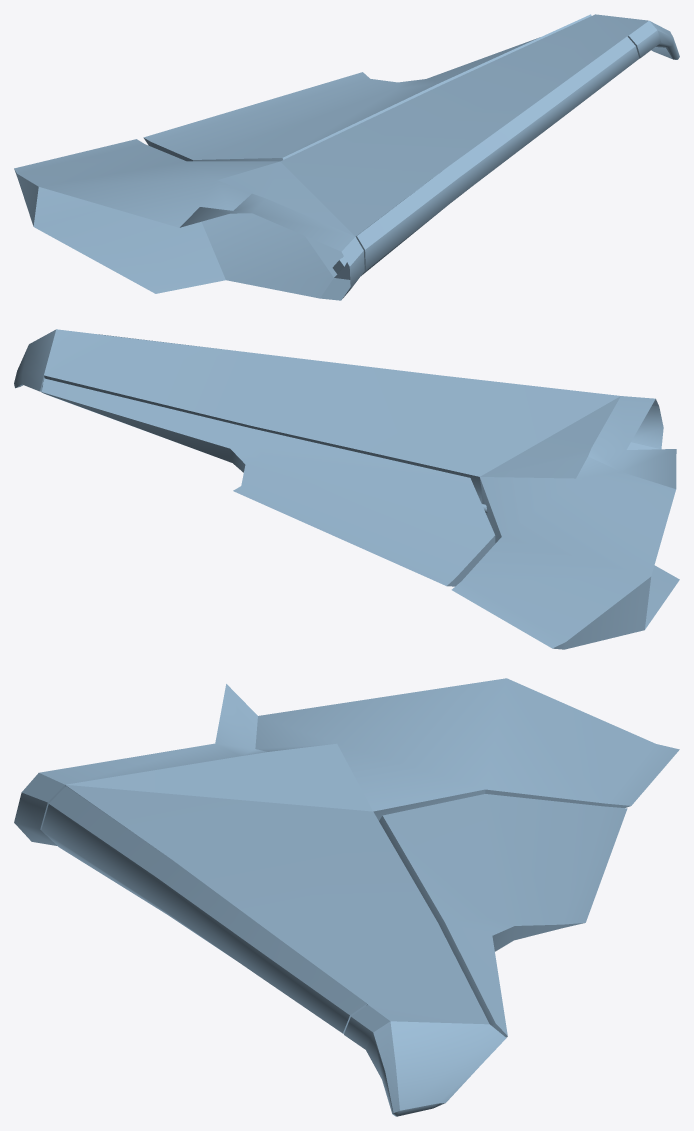
Rendered from big wing Up L.FBX.
3 renders of one model, top to bottom at view 1: azimuth 30°, elevation 25°; view 2: azimuth 150°, elevation 25°; view 3: azimuth 270°, elevation 25°, orthographic. The views are drawn at different scales.
Parts seen in each view (by area): view 1: Box43; view 2: Box43; view 3: Box43.
Boxes of the visible parts, bbox=[...] form: Box43: bbox=[14, 14, 679, 300]; Box43: bbox=[14, 329, 679, 649]; Box43: bbox=[14, 678, 679, 1116].
Bounding box in the file's own units: 0.1813 × 0.1134 × 0.0345.
